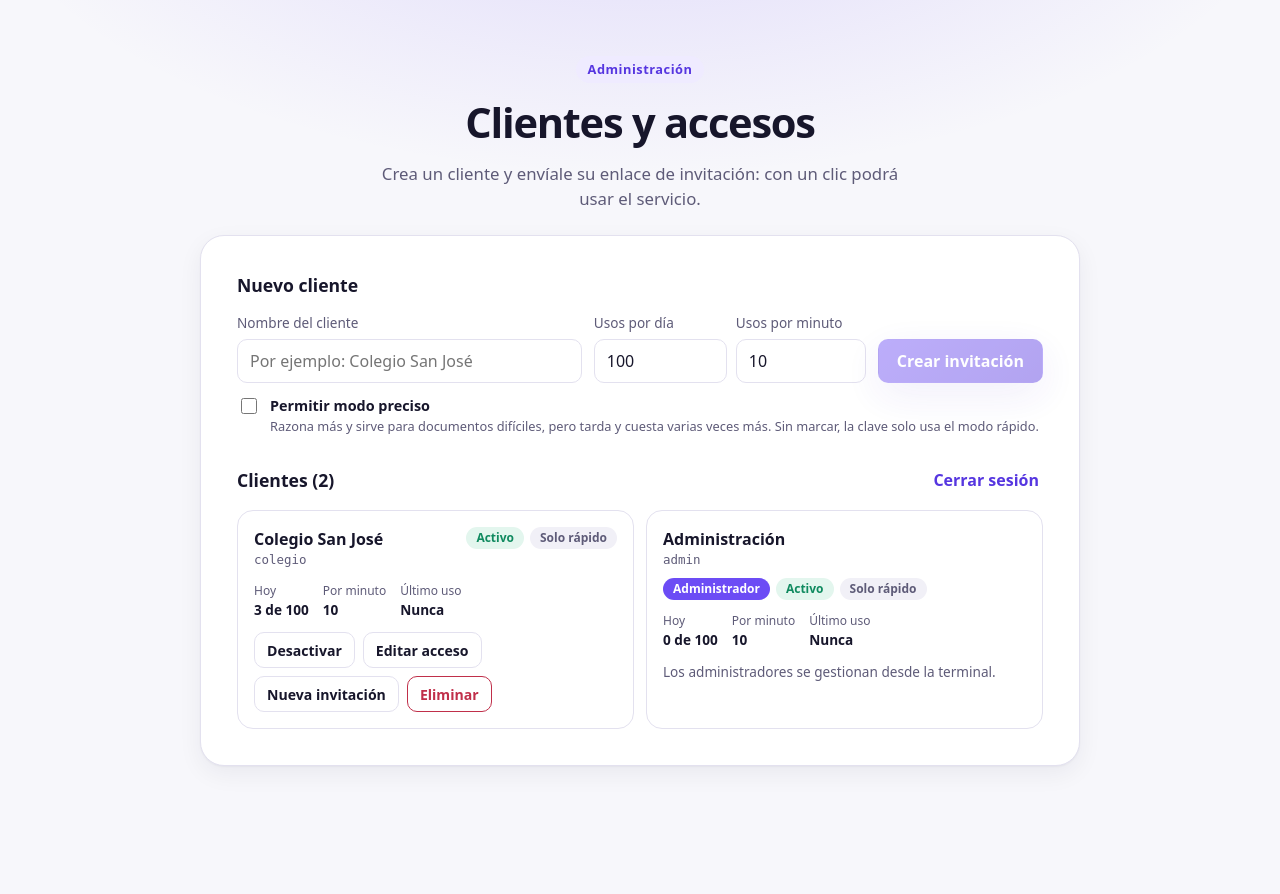
Test: AdminApp › signs in from the admin link, lists clients and shows a new invitation once
Check: the text "Colegio San José" is shown, box [254, 528, 383, 550]
Check: the text "3 de 100" is shown, box [254, 600, 309, 620]
Type "Liceo Nº 5" into the field labelled "Nombre del cliente" at (409, 361), box [237, 339, 582, 383]
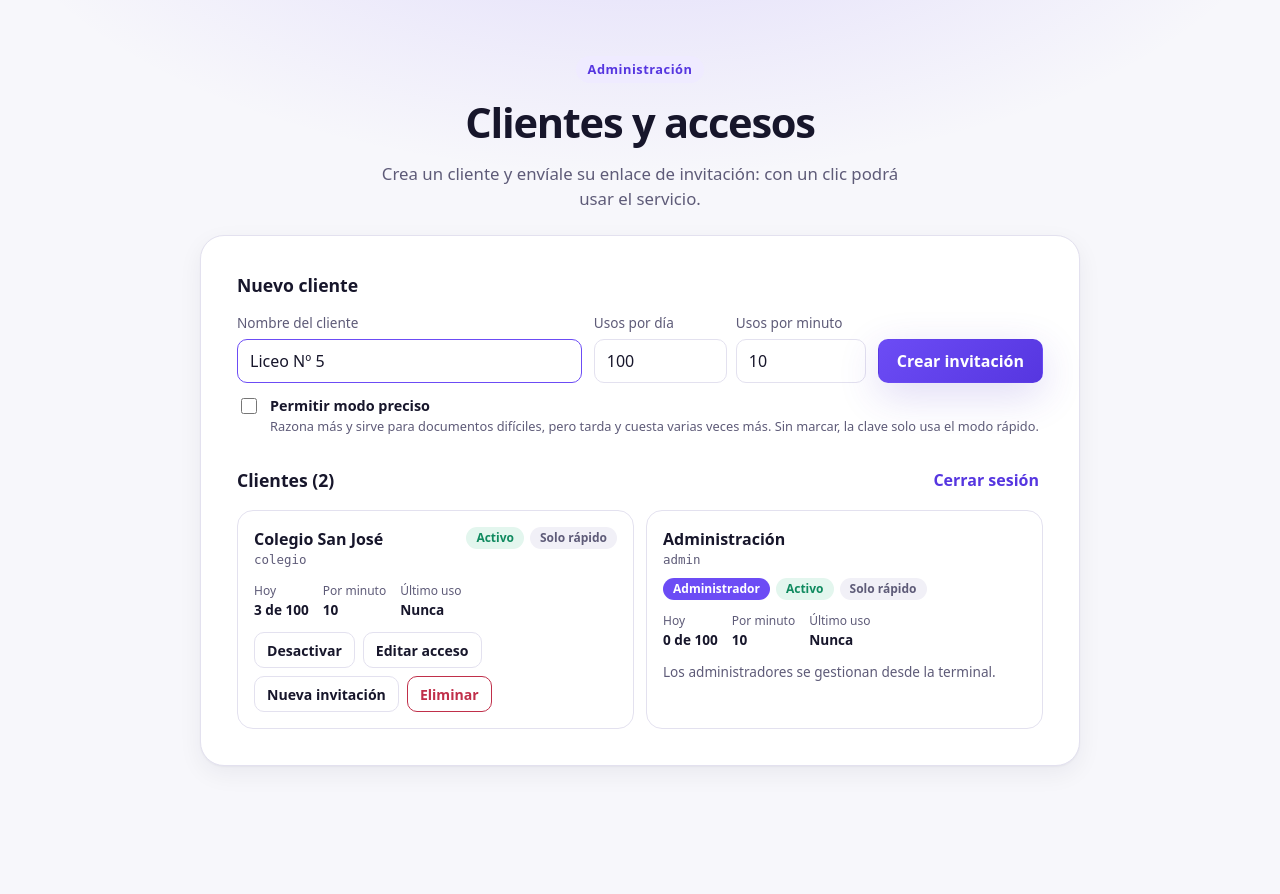
Click the button "Crear invitación" at (960, 361), box [878, 339, 1043, 383]
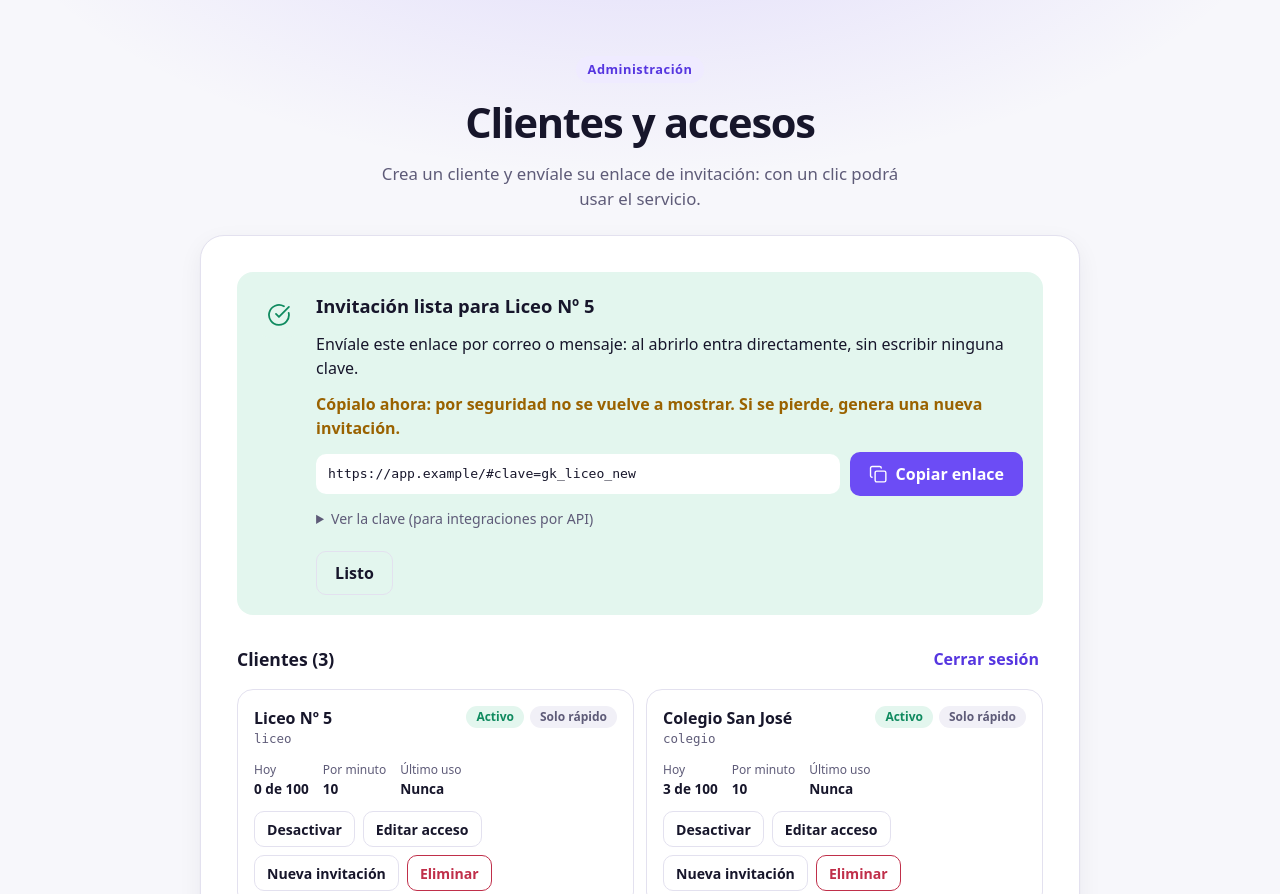
Check: the heading "Invitación lista para Liceo Nº 5" is shown, box [316, 292, 595, 320]
Check: the text "https://app.example/#clave=gk_liceo_new" is shown, box [316, 454, 840, 494]
Check: the heading "Clientes (3)" is shown, box [237, 646, 334, 672]
Click the button "Listo" at (354, 573), box [316, 551, 393, 595]
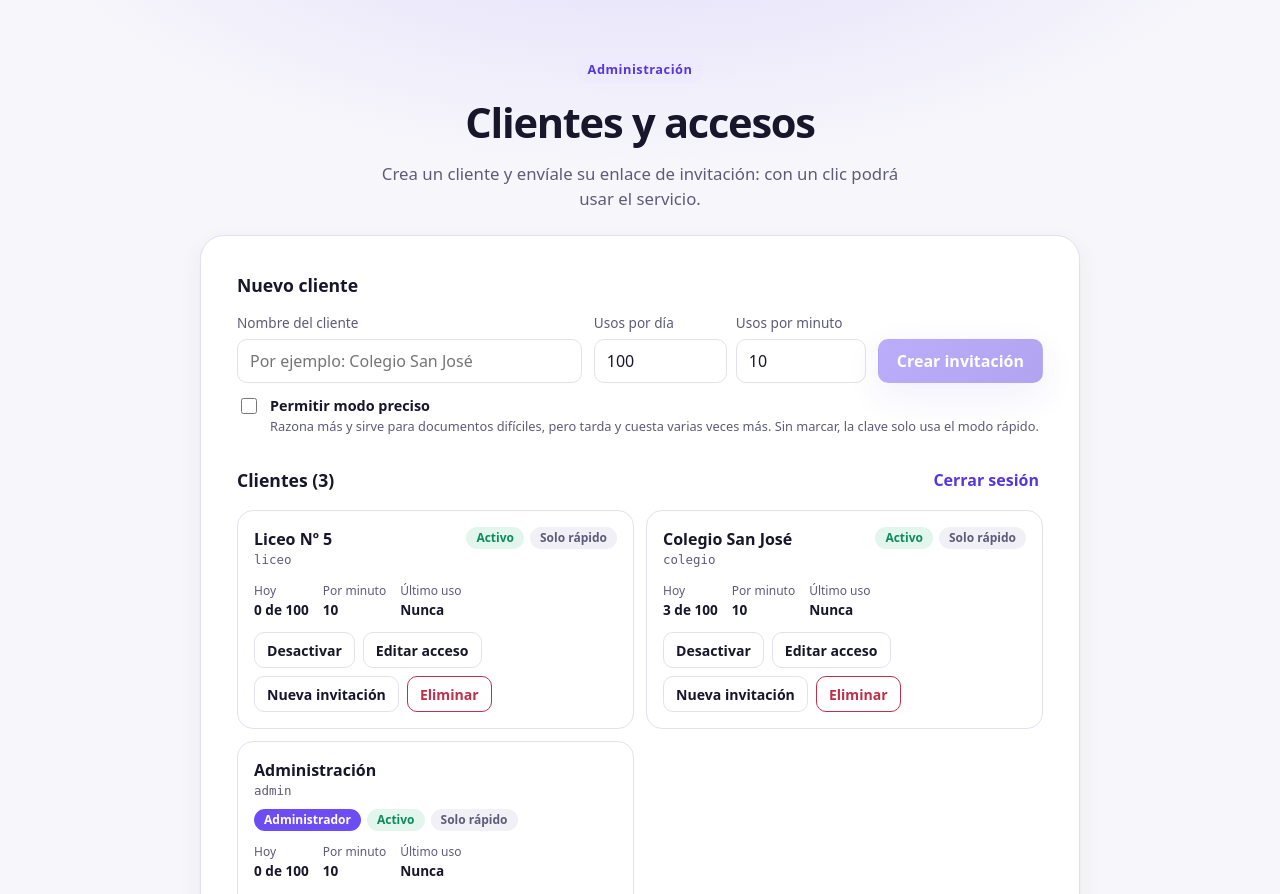
Check: the text "https://app.example/#clave=gk_liceo_new" is gone
Check: the field labelled "Nombre del cliente" is shown, box [237, 339, 582, 383]
